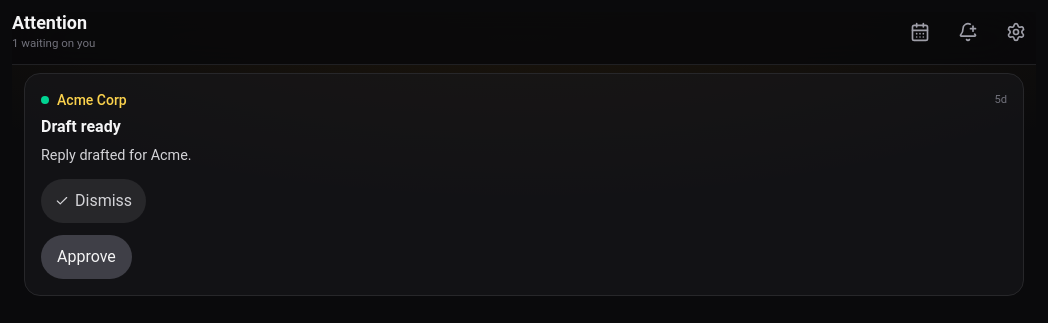
Test: AttentionScreen dismiss › drops the card from the queue the moment it is dismissed
Expected: the heading "Draft ready" is shown, [41, 117, 121, 136]
Click the button "Dismiss" at [94, 201], box [41, 179, 146, 223]
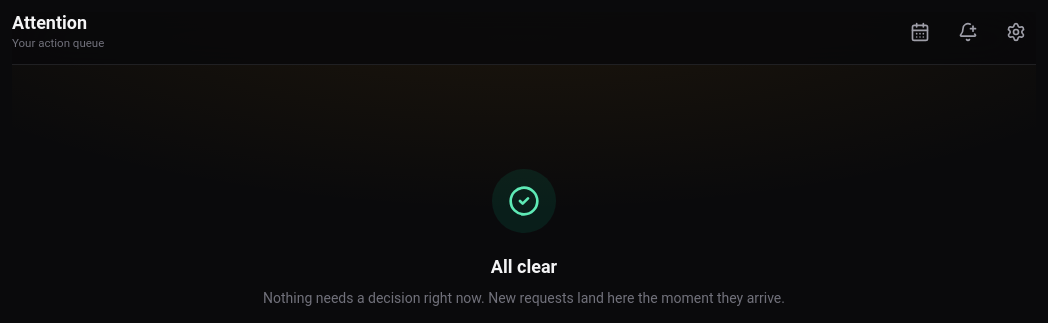
Now the heading "Draft ready" is gone
Now the text "All clear" is shown, box [491, 253, 557, 281]
